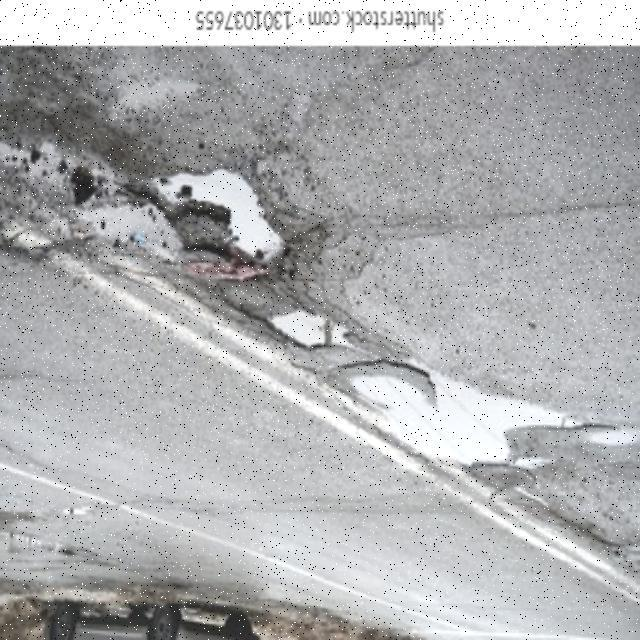Pothole: (337, 361, 567, 466), (121, 168, 284, 260), (510, 452, 638, 550), (230, 294, 345, 346)
